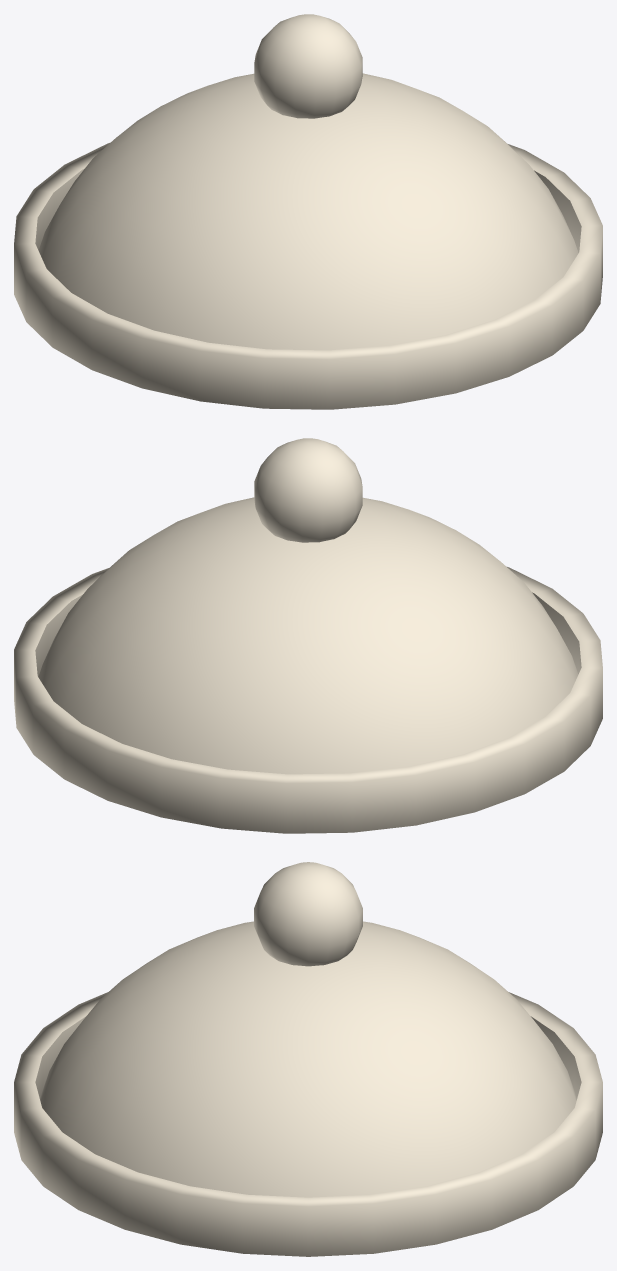
Rendered from aran_knit_cap.glb.
3 views of the same model, one above another, from view 1: azimuth 30°, elevation 25°; view 2: azimuth 150°, elevation 25°; view 3: azimuth 270°, elevation 25° (orthographic).
Parts seen in each view (by area): view 1: aran_knit_cap_Head; view 2: aran_knit_cap_Head; view 3: aran_knit_cap_Head.
Part boxes in pixels (bbox=[...]): aran_knit_cap_Head: bbox=[14, 14, 602, 409]; aran_knit_cap_Head: bbox=[14, 438, 602, 833]; aran_knit_cap_Head: bbox=[14, 862, 602, 1256].
Size of the model in its own units: 0.744 by 0.37 by 0.744.
